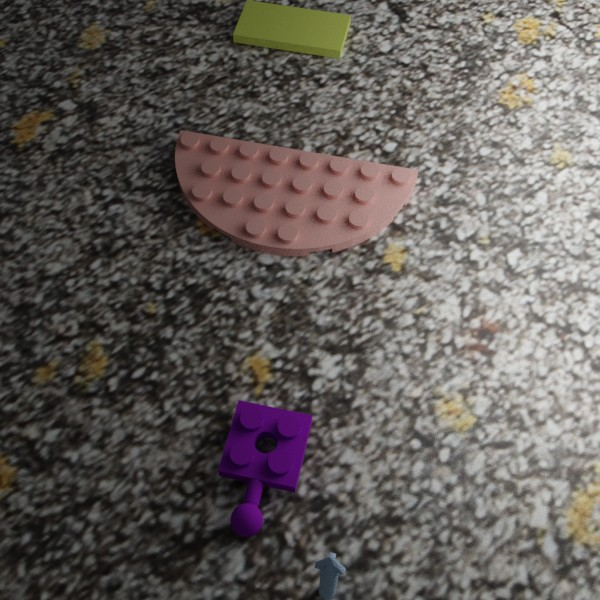lego: (175, 130, 418, 256), (217, 400, 312, 536), (232, 0, 350, 58), (314, 552, 345, 599)
